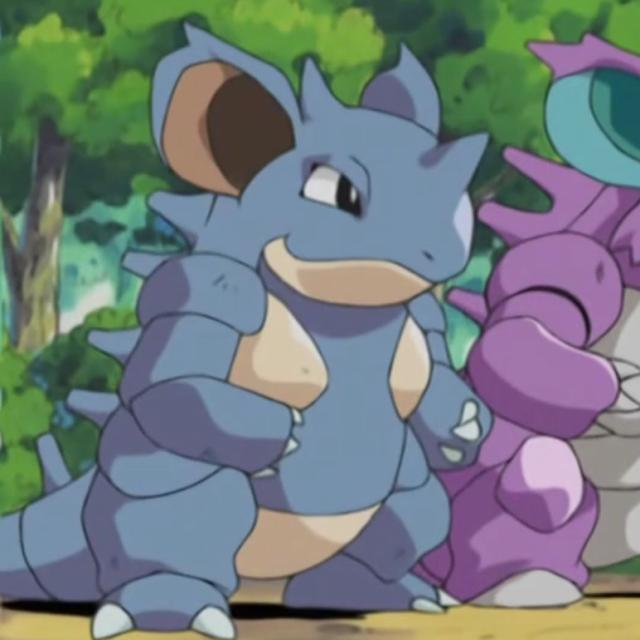Nidoqueen: (12, 21, 480, 640)
